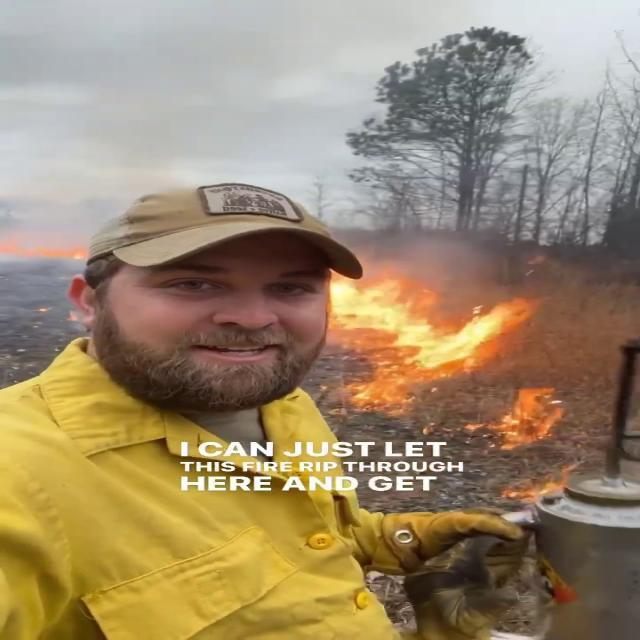Fire: (322, 257, 540, 416)
